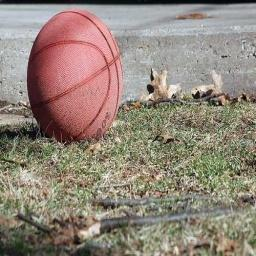ball: (25, 7, 127, 146)
